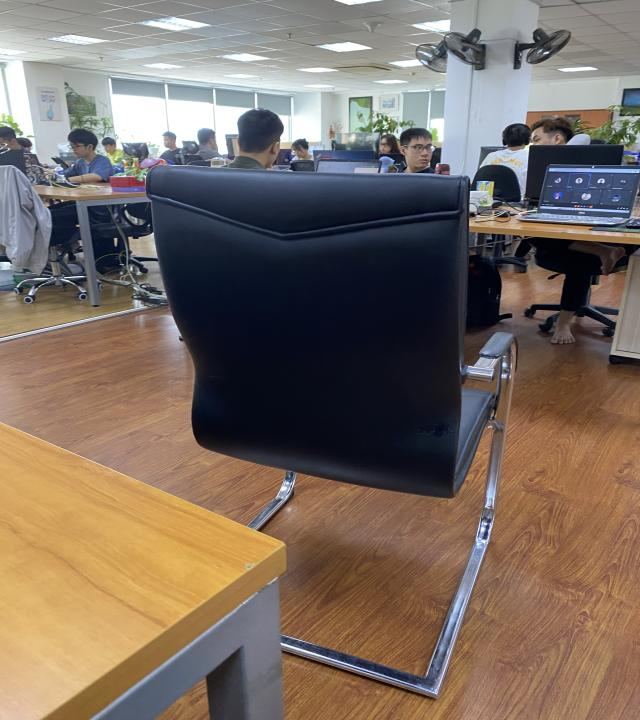SS_03: (147, 160, 520, 703)
